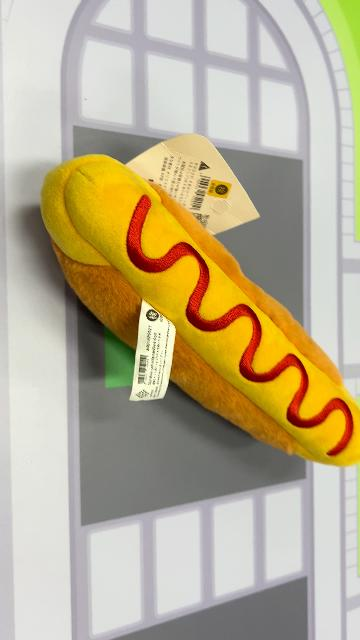hotdog: (40, 152, 358, 468)
